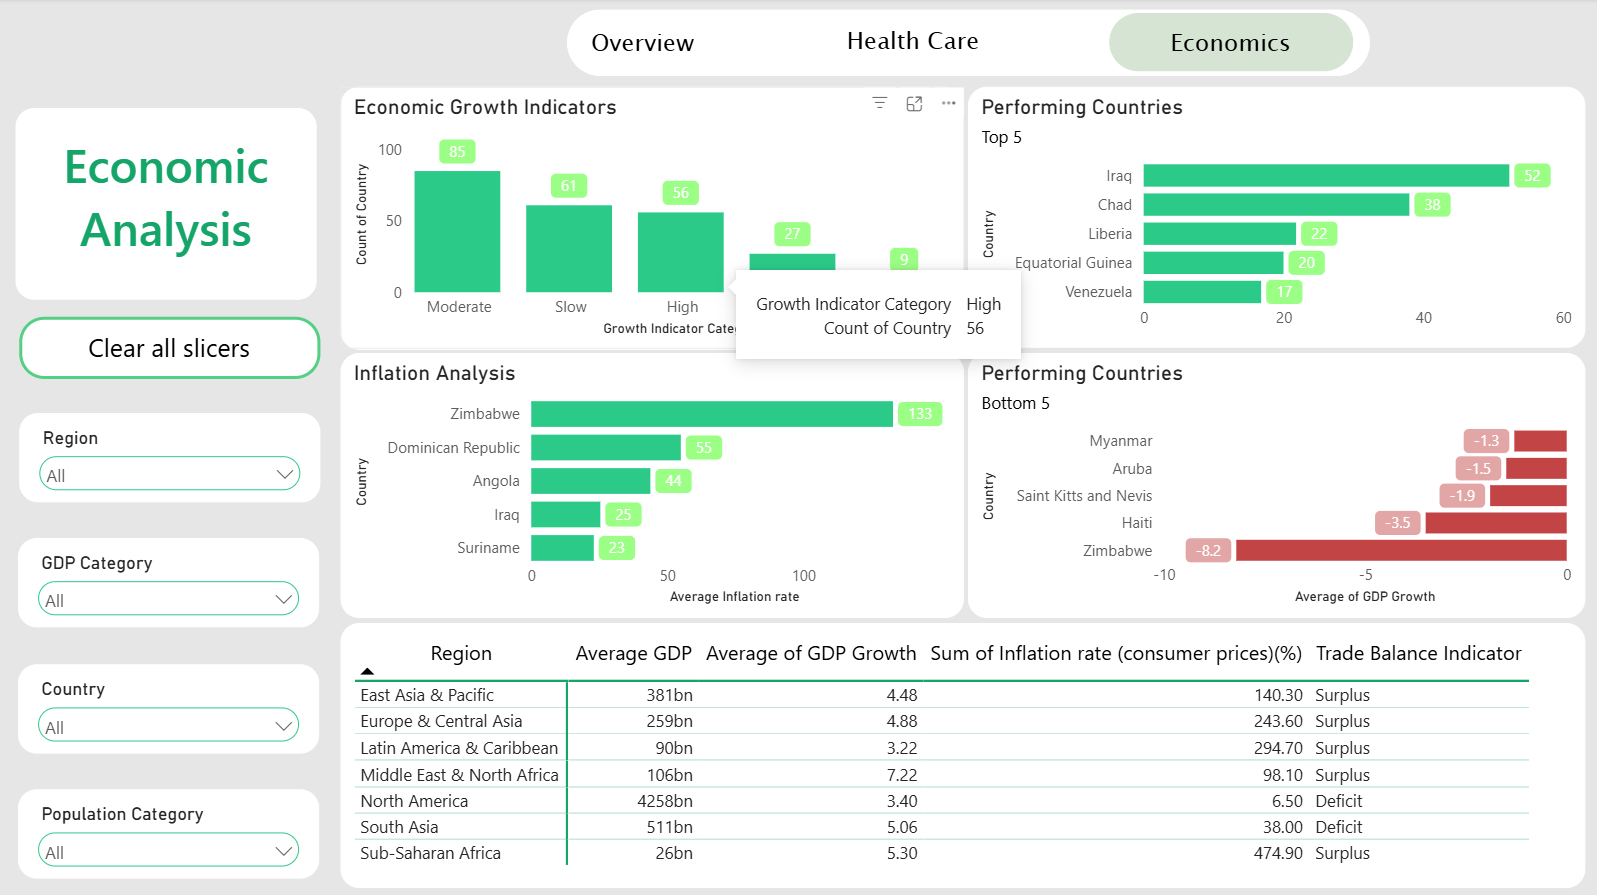

What the dashboard file says about the page in this screenshot:
{"tool":"powerbi","page":{"name":"Economic Analysis","canvas":[1280,720],"ordinal":2},"visuals":[{"type":"group","id":"g1","title":"Group 1","box":[457.9,17,640.3,53.4],"z":0},{"type":"slicer","fields":{"Values":["Country Data Comparison.GDP Category"]},"box":[20.4,438.7,240,71],"z":0,"group":"g2"},{"type":"clusteredBarChart","title":"Inflation Analysis","fields":{"Category":["Country Data Comparison.Country"],"Y":["Avg(Country Data Comparison.Inflation rate (consumer prices)(%))"]},"box":[277.4,291,497,211.1],"z":1000},{"type":"slicer","fields":{"Values":["Country Data Comparison.Country"]},"box":[20.4,538.7,240,71],"z":1000,"group":"g2"},{"type":"clusteredColumnChart","title":"Economic Growth Indicators","fields":{"Category":["Country Data Comparison.Growth Indicator Category"],"Y":["Count(Country Data Comparison.Country)"]},"box":[277.4,78.3,497,209.4],"z":2000},{"type":"slicer","fields":{"Values":["Country Data Comparison.Region"]},"box":[21.7,338.7,240,71.5],"z":2000,"group":"g2"},{"type":"pivotTable","fields":{"Rows":["Country Data Comparison.Region"],"Values":["_Measures.Average GDP","Avg(Country Data Comparison.GDP Growth)","Sum(Country Data Comparison.Inflation rate (consumer prices)(%))1","_Measures.Trade Balance Indicator"]},"box":[277.4,506,992.3,211.1],"z":3000},{"type":"slicer","fields":{"Values":["Country Data Comparison.Population Category"]},"box":[20.4,638.7,240,71],"z":3000,"group":"g2"},{"type":"clusteredBarChart","title":"Performing Countries","fields":{"Category":["Country Data Comparison.Country"],"Y":["Avg(Country Data Comparison.GDP Growth)"]},"box":[778,78.7,492.1,208.2],"z":4000},{"type":"clusteredBarChart","title":"Performing Countries ","fields":{"Category":["Country Data Comparison.Country"],"Y":["Avg(Country Data Comparison.GDP Growth)"]},"box":[777.9,291,491.9,211.1],"z":5000},{"type":"textbox","box":[18.7,95.3,240,153.2],"z":6000},{"type":"actionButton","box":[22.1,262.1,240,49.4],"z":7000},{"type":"group","id":"g2","title":"Group 2","box":[20.4,338.7,241.7,371.1],"z":8000},{"type":"shape","box":[457.9,17,640.3,53.4],"z":9000,"group":"g1"},{"type":"actionButton","box":[637,18.5,193.4,48.4],"z":10000,"group":"g1"},{"type":"actionButton","box":[469.9,20.2,97.2,48.6],"z":11000,"group":"g1"},{"type":"actionButton","box":[890,20,194,46],"z":12000,"group":"g1"}]}

Visuals, with their boxes in screenshot pixels (x1, y1, x2, y2), scaled from the page's 1280x720 canvas onto the 1597x895 screenshot:
"Group 1" group: bbox(571, 21, 1370, 88)
slicer - Country Data Comparison.GDP Category: bbox(25, 545, 325, 634)
"Inflation Analysis" clusteredBarChart: bbox(346, 362, 966, 624)
slicer - Country Data Comparison.Country: bbox(25, 670, 325, 758)
"Economic Growth Indicators" clusteredColumnChart: bbox(346, 97, 966, 358)
slicer - Country Data Comparison.Region: bbox(27, 421, 327, 510)
pivotTable - Country Data Comparison.Region x _Measures.Average GDP: bbox(346, 629, 1584, 891)
slicer - Country Data Comparison.Population Category: bbox(25, 794, 325, 882)
"Performing Countries" clusteredBarChart: bbox(971, 98, 1585, 357)
"Performing Countries " clusteredBarChart: bbox(971, 362, 1584, 624)
textbox: bbox(23, 118, 323, 309)
actionButton: bbox(28, 326, 327, 387)
"Group 2" group: bbox(25, 421, 327, 882)
shape: bbox(571, 21, 1370, 88)
actionButton: bbox(795, 23, 1036, 83)
actionButton: bbox(586, 25, 708, 86)
actionButton: bbox(1110, 25, 1352, 82)
